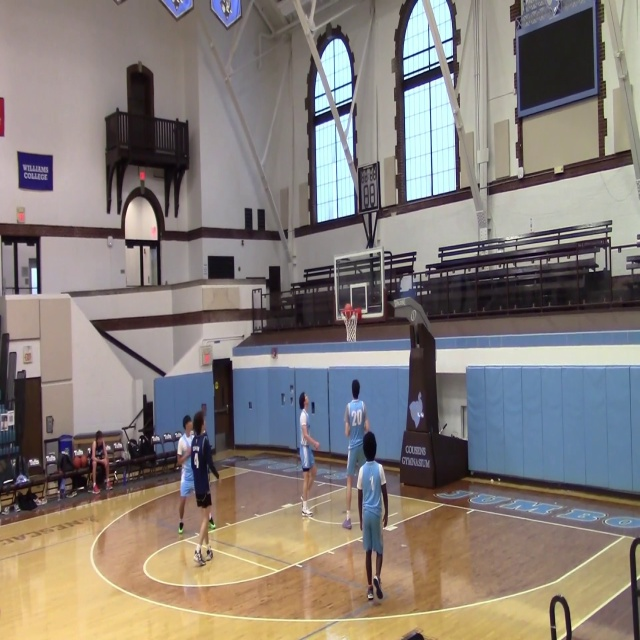Basketball: (343, 303, 352, 318)
